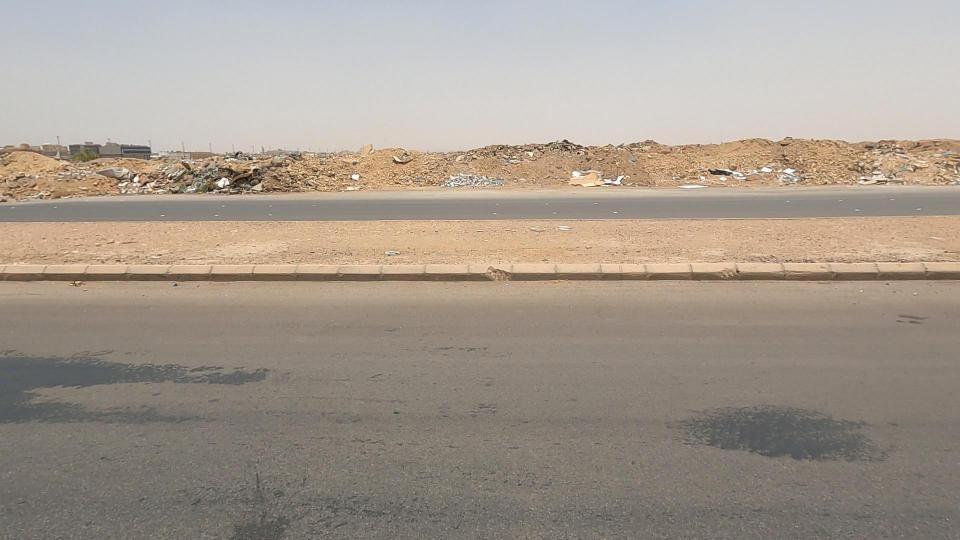CLUTTER_SIDEWALK: (423, 185, 960, 293), (0, 189, 422, 297), (265, 187, 573, 298)
GARBAGE: (129, 137, 310, 216), (710, 139, 829, 203), (67, 147, 183, 212), (523, 154, 676, 202), (407, 153, 540, 203), (675, 149, 765, 196), (324, 161, 407, 206)
